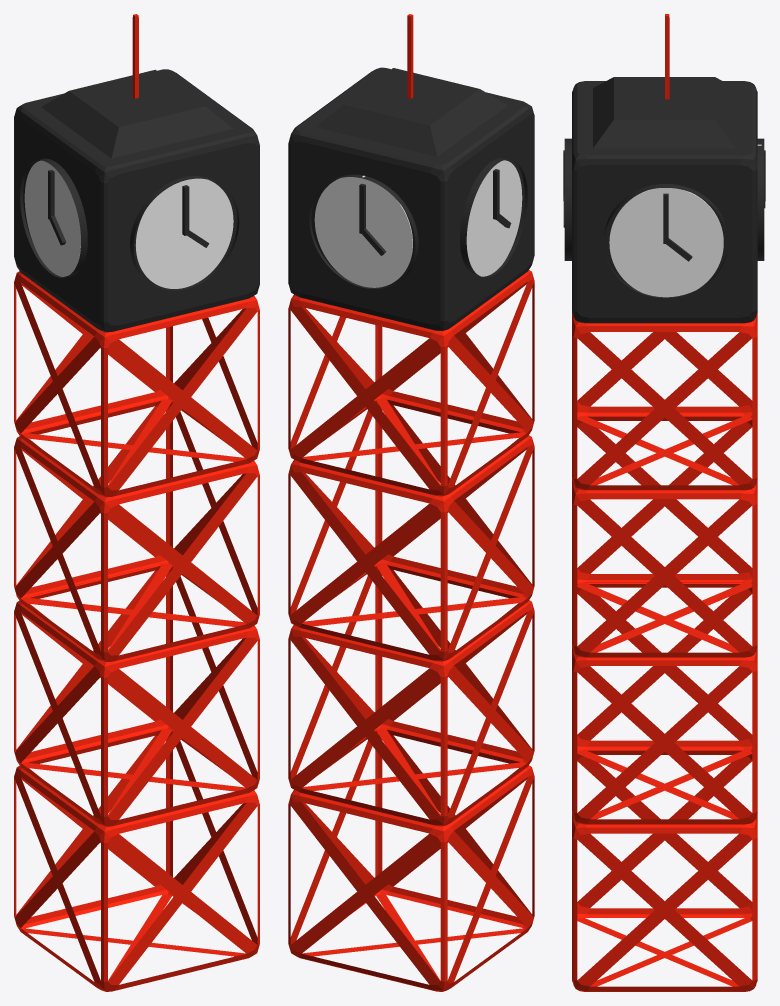
Rendered from clock_tower.glb.
3 views of the same model, side by side, from view 1: azimuth 30°, elevation 25°; view 2: azimuth 150°, elevation 25°; view 3: azimuth 270°, elevation 25° (orthographic).
Visible parts, largest first — view 1: Cube.095, Cube.002, Cube.094, Cube.092, Cube.093, Cube.097, Cylinder.001, Cylinder.003, Cylinder.006, Cylinder.008, Cube.098; view 2: Cube.095, Cube.002, Cube.094, Cube.092, Cube.093, Cube.097, Cylinder.002, Cylinder.003, Cylinder.006, Cylinder.007, Cube.098, Cube.101; view 3: Cube.095, Cube.002, Cube.094, Cube.092, Cube.093, Cube.097, Cylinder.004, Cylinder.005, Cylinder.008, Cylinder.007, Cube.099.
Part boxes in pixels (x1,y1,x2,y2): Cube.095: [14, 69, 259, 332]; Cube.002: [14, 728, 259, 991]; Cube.094: [14, 399, 259, 661]; Cube.092: [14, 563, 259, 826]; Cube.093: [14, 271, 259, 497]; Cube.097: [41, 69, 232, 158]; Cylinder.001: [135, 178, 233, 288]; Cylinder.003: [24, 160, 80, 276]; Cylinder.006: [20, 158, 87, 277]; Cylinder.008: [130, 176, 239, 290]; Cube.098: [132, 14, 138, 98]; Cube.095: [288, 67, 534, 330]; Cube.002: [288, 728, 534, 991]; Cube.094: [288, 398, 534, 661]; Cube.092: [288, 563, 534, 826]; Cube.093: [288, 270, 534, 496]; Cube.097: [315, 68, 507, 156]; Cylinder.002: [314, 175, 412, 287]; Cylinder.003: [466, 160, 522, 276]; Cylinder.006: [460, 157, 527, 277]; Cylinder.007: [309, 174, 418, 288]; Cube.098: [407, 14, 413, 98]; Cube.101: [359, 183, 386, 255]; Cube.095: [572, 81, 757, 323]; Cube.002: [572, 749, 757, 991]; Cube.094: [572, 415, 757, 657]; Cube.092: [572, 582, 757, 824]; Cube.093: [572, 313, 757, 490]; Cube.097: [593, 77, 735, 148]; Cylinder.004: [609, 188, 723, 297]; Cylinder.005: [604, 184, 727, 298]; Cylinder.008: [564, 138, 571, 260]; Cylinder.007: [757, 138, 764, 260]; Cube.099: [663, 193, 692, 261].
Bounding box in the file's own units: 0.0349 × 0.1759 × 0.0343.
